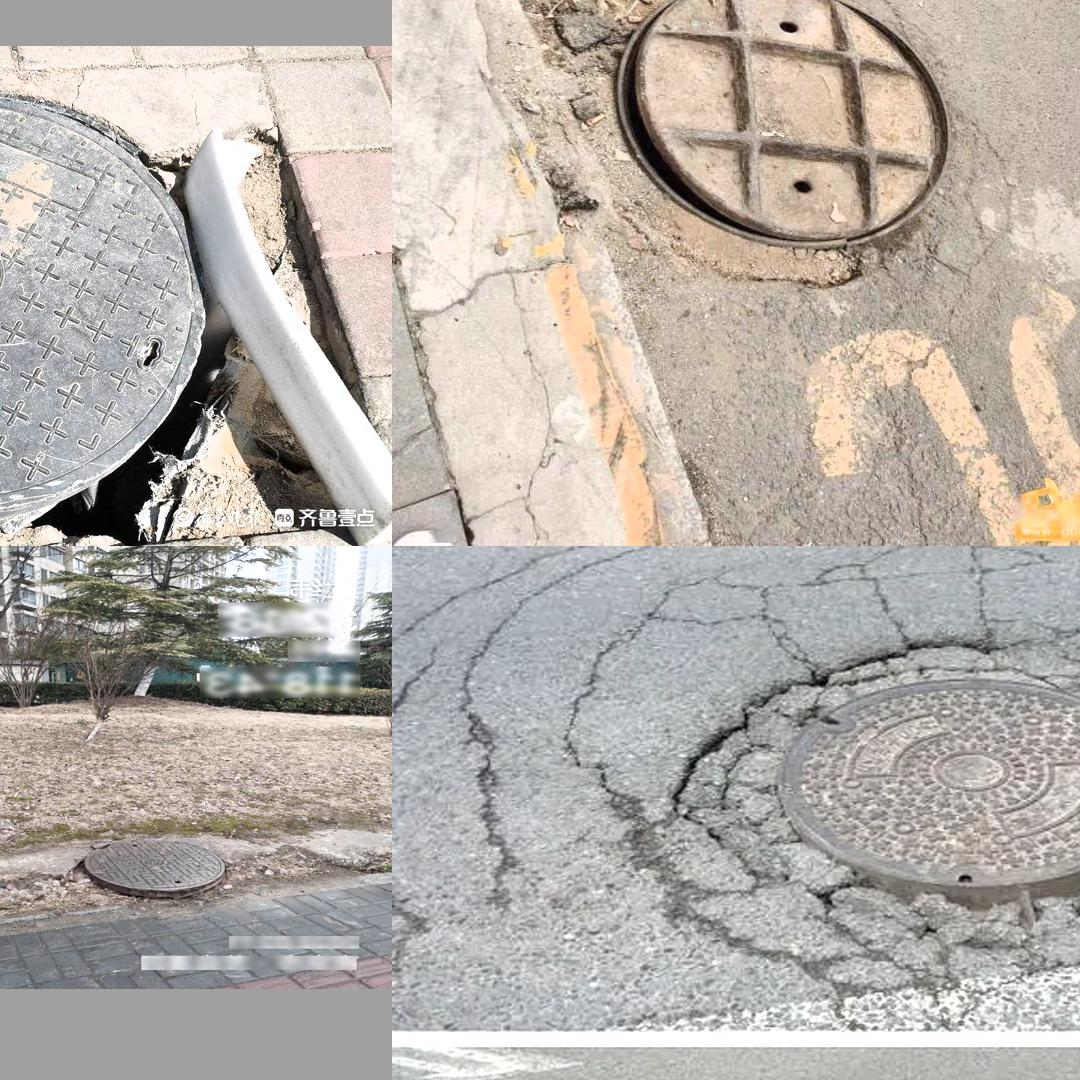circle: (481, 0, 1005, 311), (635, 636, 1080, 971), (0, 92, 338, 531), (77, 837, 228, 897)
